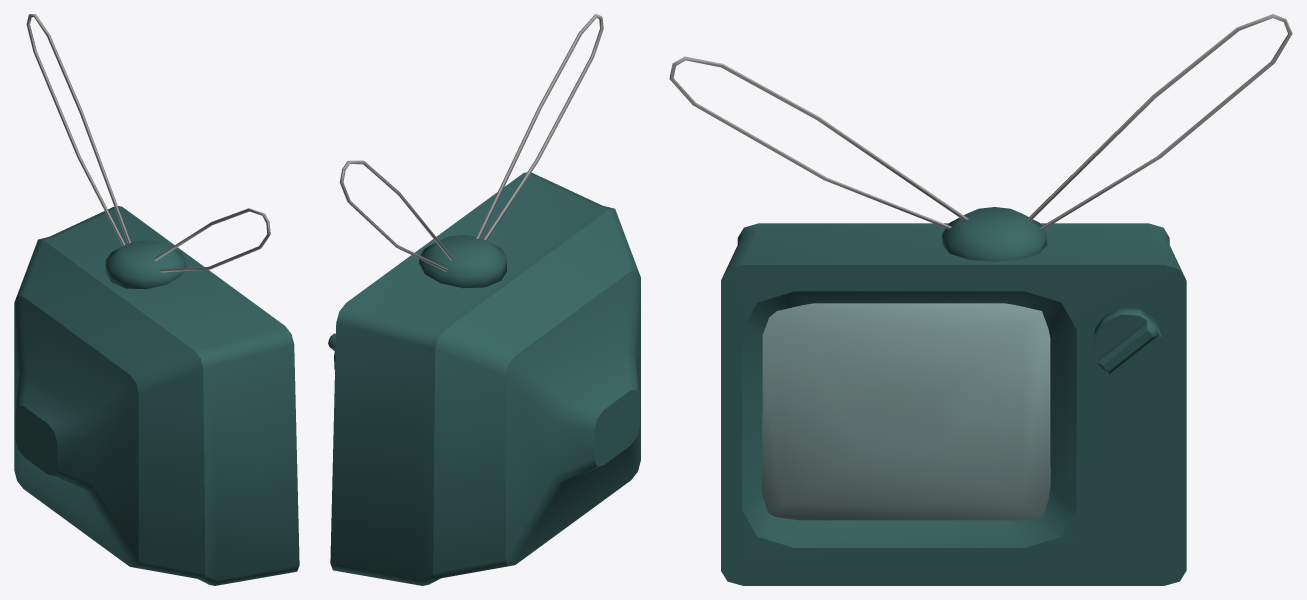
The picture shows the model from 3 angles, left to right: view 1: azimuth 30°, elevation 25°; view 2: azimuth 150°, elevation 25°; view 3: azimuth 270°, elevation 25°; orthographic projection. The views are drawn at different scales.
Visible parts, largest first — view 1: Body, Cylinder, Cylinder.002, Cylinder.001; view 2: Body, Cylinder, Cylinder.001, Cylinder.002; view 3: Body, Screen, Cylinder, Dial, Cylinder.001, Cylinder.002.
Boxes of the visible parts, box(x1,y1,x2,y2) form: Body: box(14, 206, 299, 585); Cylinder: box(105, 240, 186, 289); Cylinder.002: box(26, 14, 131, 245); Cylinder.001: box(153, 208, 270, 272); Body: box(330, 172, 640, 585); Cylinder: box(419, 235, 506, 288); Cylinder.001: box(476, 14, 603, 240); Cylinder.002: box(339, 160, 453, 271); Body: box(721, 223, 1186, 585); Screen: box(762, 303, 1050, 520); Cylinder: box(942, 207, 1046, 261); Dial: box(1093, 307, 1161, 376); Cylinder.001: box(669, 56, 968, 229); Cylinder.002: box(1027, 14, 1292, 229).
Bounding box in the file's own units: 1.01 × 2.15 × 2.24.
